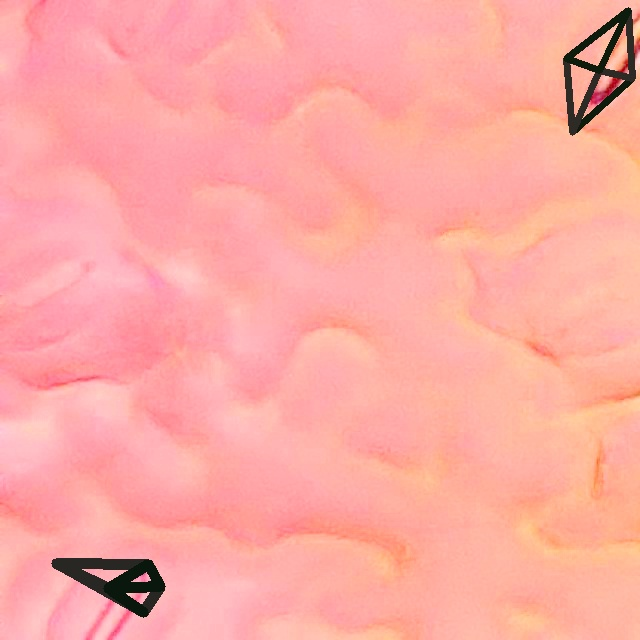open: (564, 7, 634, 134), (51, 559, 164, 617)
